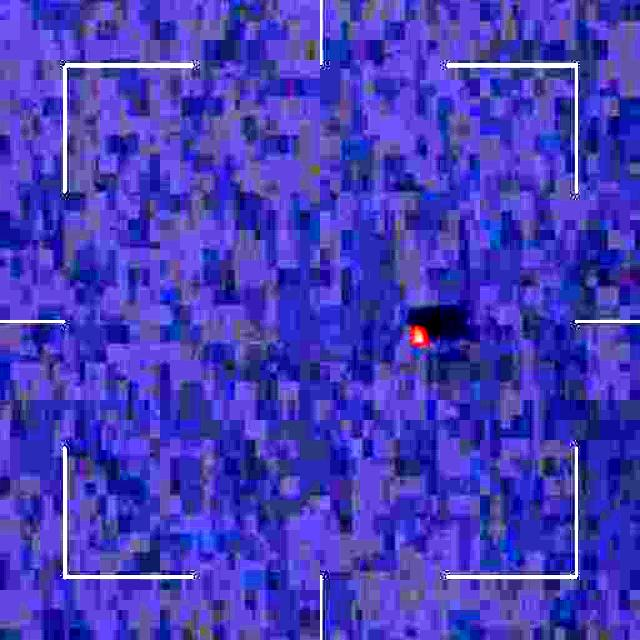bird: (408, 312, 436, 361)
